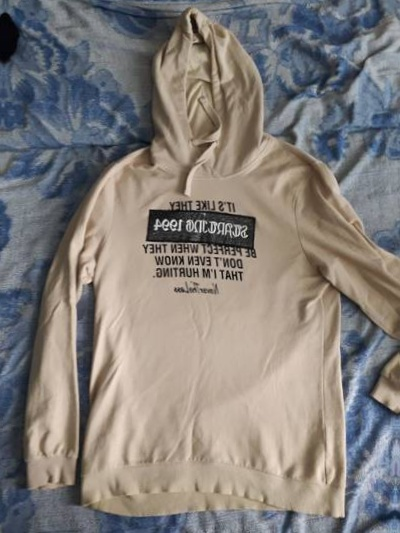Hoodie: (9, 14, 400, 533), (397, 23, 400, 533)
